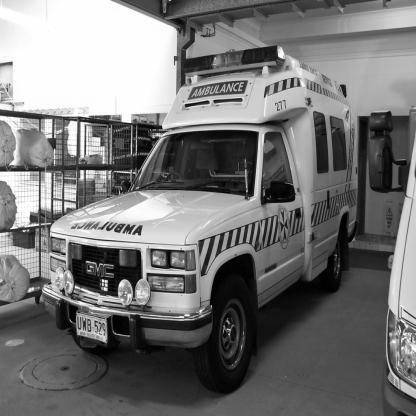ambulance: (1, 58, 363, 398)
